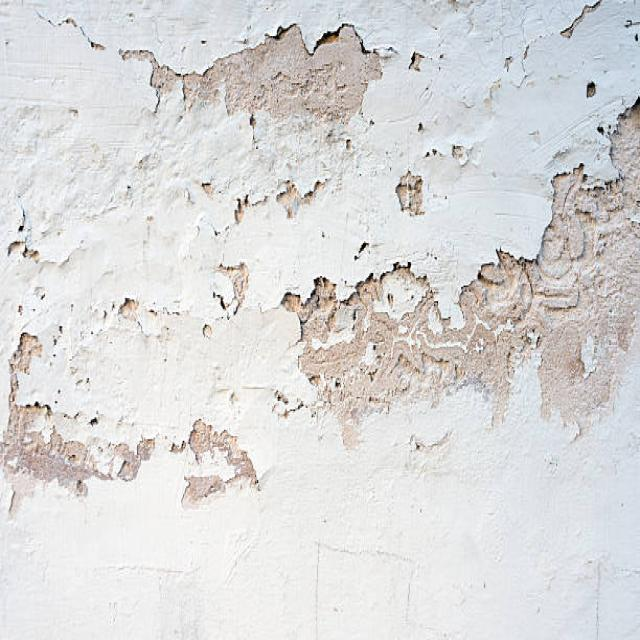Crack: (258, 19, 379, 56)
